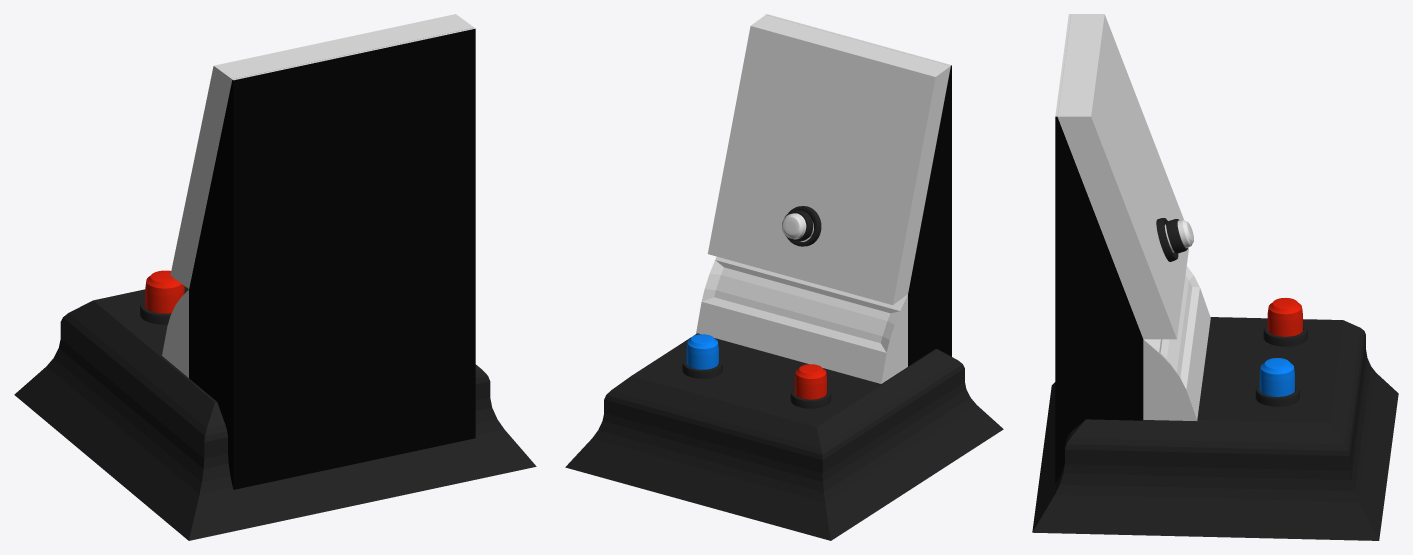
Rendered from Galvanometer.fbx.
3 views of the same model, side by side, from view 1: azimuth 30°, elevation 25°; view 2: azimuth 150°, elevation 25°; view 3: azimuth 270°, elevation 25° (orthographic). The views are drawn at different scales.
Parts seen in each view (by area): view 1: Cylinder.038, Cylinder.030, Cylinder.029; view 2: Cylinder.038, Cylinder.030, Cylinder.029, Cylinder.036, Cylinder.035, Cylinder.033; view 3: Cylinder.030, Cylinder.038, Cylinder.029, Cylinder.036, Cylinder.035.
Part boxes in pixels (left/top/right/bottom): Cylinder.038: left=162, top=14, right=475, bottom=489; Cylinder.030: left=14, top=286, right=536, bottom=540; Cylinder.029: left=145, top=270, right=184, bottom=313; Cylinder.038: left=696, top=14, right=951, bottom=383; Cylinder.030: left=565, top=333, right=1003, bottom=540; Cylinder.029: left=686, top=334, right=826, bottom=399; Cylinder.036: left=682, top=358, right=831, bottom=408; Cylinder.035: left=784, top=206, right=821, bottom=246; Cylinder.033: left=782, top=213, right=813, bottom=239; Cylinder.030: left=1032, top=317, right=1398, bottom=540; Cylinder.038: left=1055, top=14, right=1210, bottom=483; Cylinder.029: left=1259, top=298, right=1302, bottom=396; Cylinder.036: left=1255, top=324, right=1307, bottom=406; Cylinder.035: left=1156, top=218, right=1187, bottom=261.
Size of the model in its own units: 66.45 by 78.6 by 66.09.
